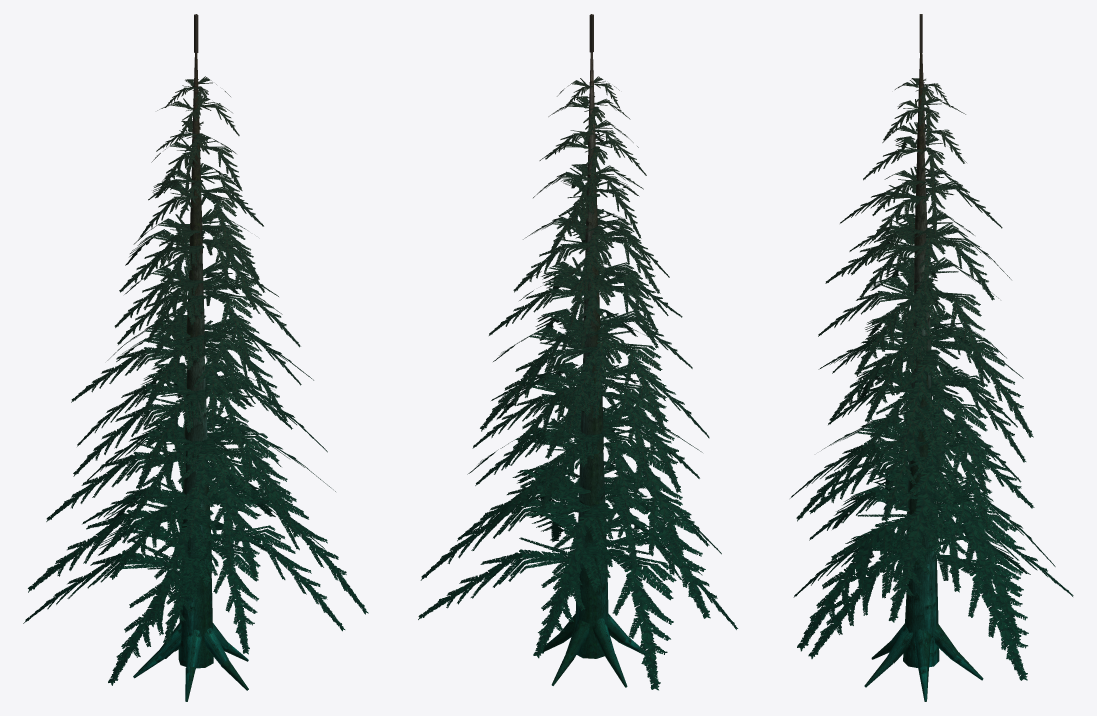
File: tree_pine_dark.glb
3 views of the same model, side by side, from view 1: azimuth 30°, elevation 25°; view 2: azimuth 150°, elevation 25°; view 3: azimuth 270°, elevation 25° (orthographic).
Visible parts, largest first — view 1: tree_pine_dark_LOD0; view 2: tree_pine_dark_LOD0; view 3: tree_pine_dark_LOD0.
Boxes of the visible parts, bbox=[...] form: tree_pine_dark_LOD0: bbox=[23, 14, 368, 701]; tree_pine_dark_LOD0: bbox=[418, 14, 737, 690]; tree_pine_dark_LOD0: bbox=[790, 14, 1073, 701].
Size of what is drawn, in the model's own units: 6.66 by 14.02 by 5.95.
2 materials, 2 textured.
